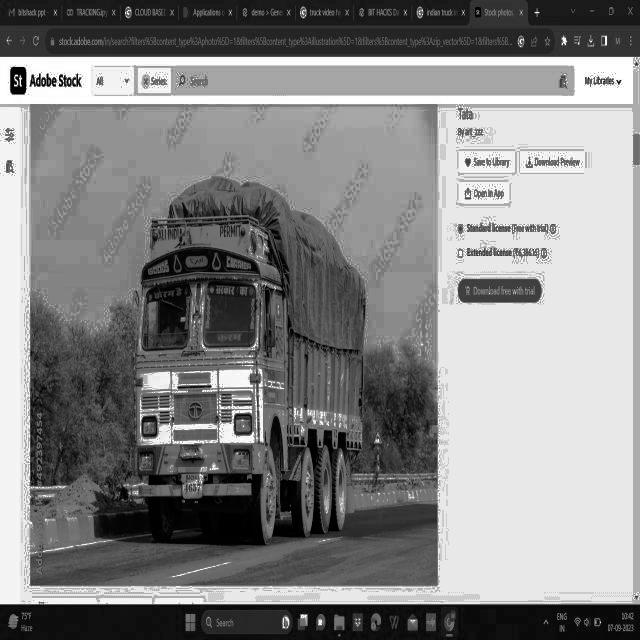HCV: (128, 128, 392, 565)
